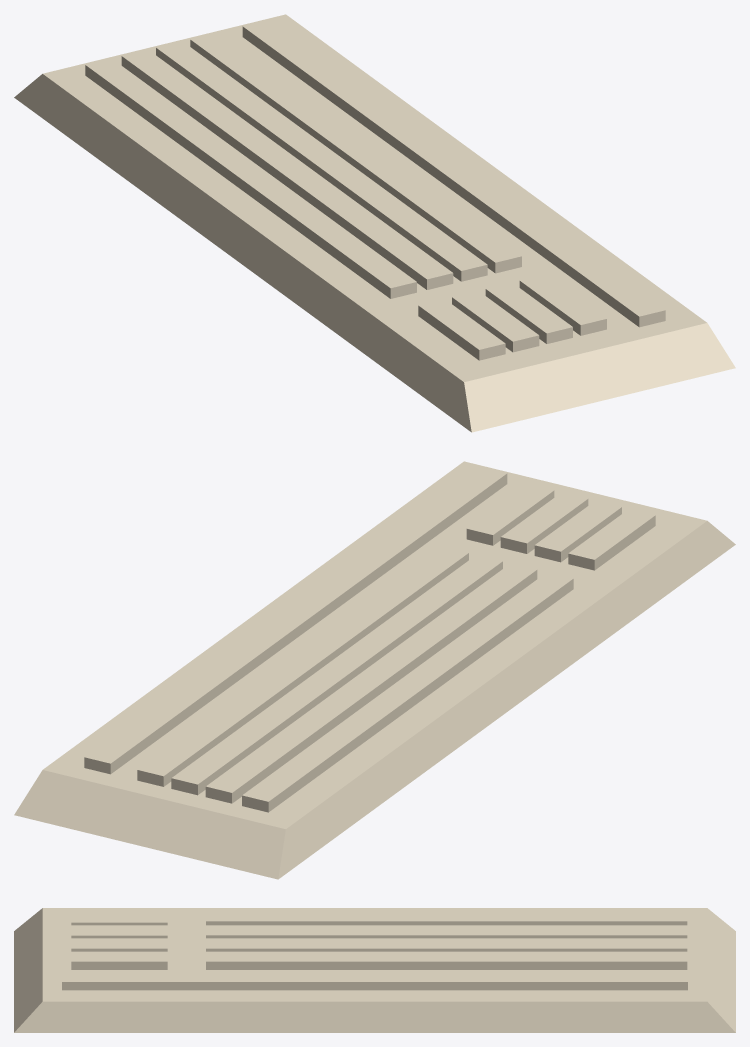
File: keyboard.fbx
3 views of the same model, one above another, from view 1: azimuth 30°, elevation 25°; view 2: azimuth 150°, elevation 25°; view 3: azimuth 270°, elevation 25° (orthographic). The views are drawn at different scales.
Visible parts, largest first — view 1: Cube, Cube.001, Cube.005, Cube.004, Cube.003, Cube.002, Cube.009, Cube.006, Cube.007, Cube.008; view 2: Cube, Cube.001, Cube.005, Cube.004, Cube.003, Cube.002, Cube.009, Cube.006, Cube.007, Cube.008; view 3: Cube, Cube.001, Cube.002, Cube.005, Cube.003, Cube.004, Cube.006, Cube.007, Cube.008, Cube.009.
Boxes of the visible parts, left/top/right/bottom form: Cube: left=14, top=14, right=735, bottom=432; Cube.001: left=242, top=20, right=665, bottom=327; Cube.005: left=85, top=58, right=416, bottom=298; Cube.004: left=121, top=50, right=453, bottom=289; Cube.003: left=156, top=41, right=487, bottom=281; Cube.002: left=190, top=33, right=521, bottom=273; Cube.009: left=418, top=299, right=505, bottom=360; Cube.006: left=519, top=274, right=606, bottom=335; Cube.007: left=485, top=282, right=572, bottom=343; Cube.008: left=452, top=290, right=539, bottom=352; Cube: left=14, top=461, right=735, bottom=879; Cube.001: left=84, top=467, right=507, bottom=774; Cube.005: left=242, top=572, right=573, bottom=812; Cube.004: left=205, top=563, right=537, bottom=803; Cube.003: left=171, top=555, right=502, bottom=795; Cube.002: left=137, top=546, right=468, bottom=786; Cube.009: left=568, top=509, right=655, bottom=570; Cube.006: left=466, top=484, right=554, bottom=545; Cube.007: left=500, top=492, right=588, bottom=553; Cube.008: left=534, top=500, right=621, bottom=562; Cube: left=14, top=908, right=735, bottom=1032; Cube.001: left=62, top=971, right=687, bottom=990; Cube.002: left=206, top=951, right=687, bottom=969; Cube.005: left=206, top=911, right=687, bottom=925; Cube.003: left=206, top=938, right=687, bottom=951; Cube.004: left=206, top=925, right=687, bottom=938; Cube.006: left=71, top=951, right=167, bottom=969; Cube.007: left=71, top=938, right=167, bottom=951; Cube.008: left=71, top=925, right=167, bottom=938; Cube.009: left=71, top=912, right=167, bottom=925.
Bounding box in the file's own units: 100 × 16.37 × 300.
